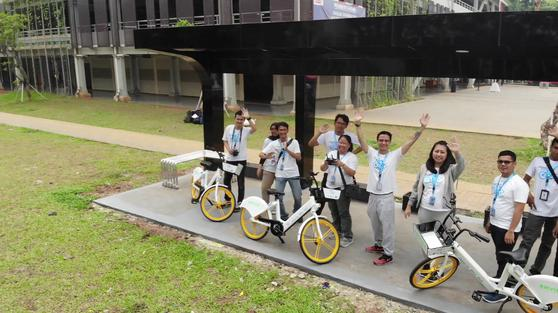bike: (406, 195, 556, 313), (236, 163, 344, 267), (187, 148, 243, 225)
